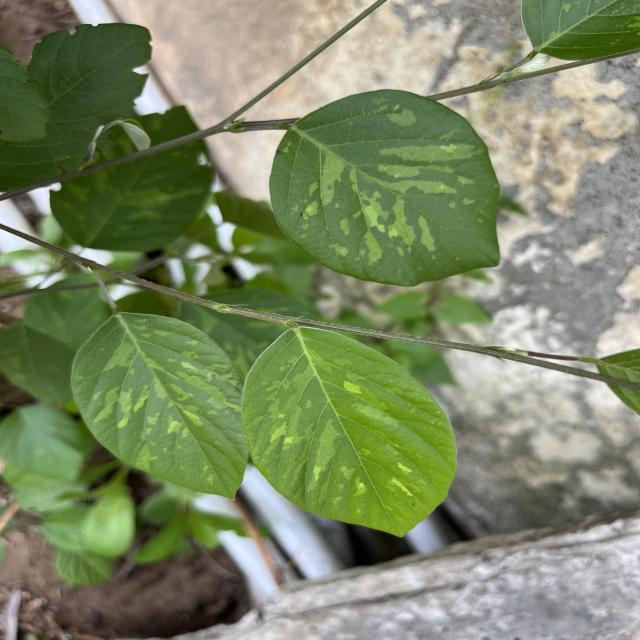Desmodium gangeticum: (238, 325, 463, 541), (66, 308, 252, 505)
